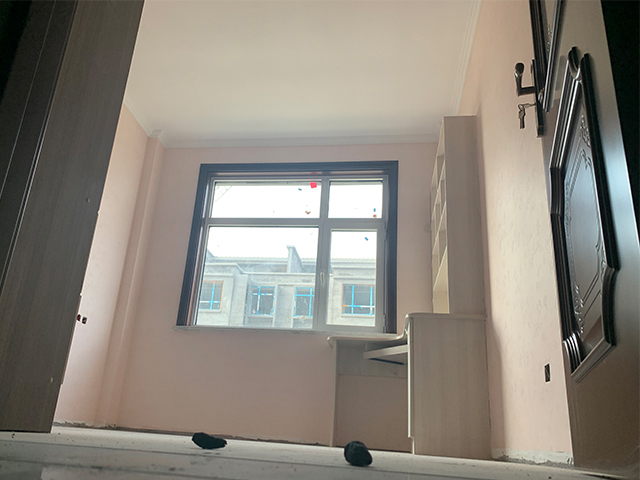feces: (343, 440, 374, 467), (191, 432, 228, 450)
table: (326, 305, 487, 461)
